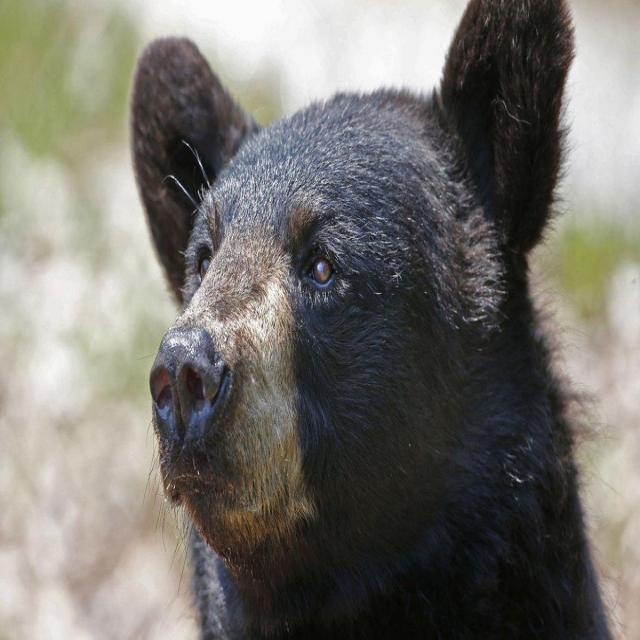Bear: (128, 0, 615, 640)
